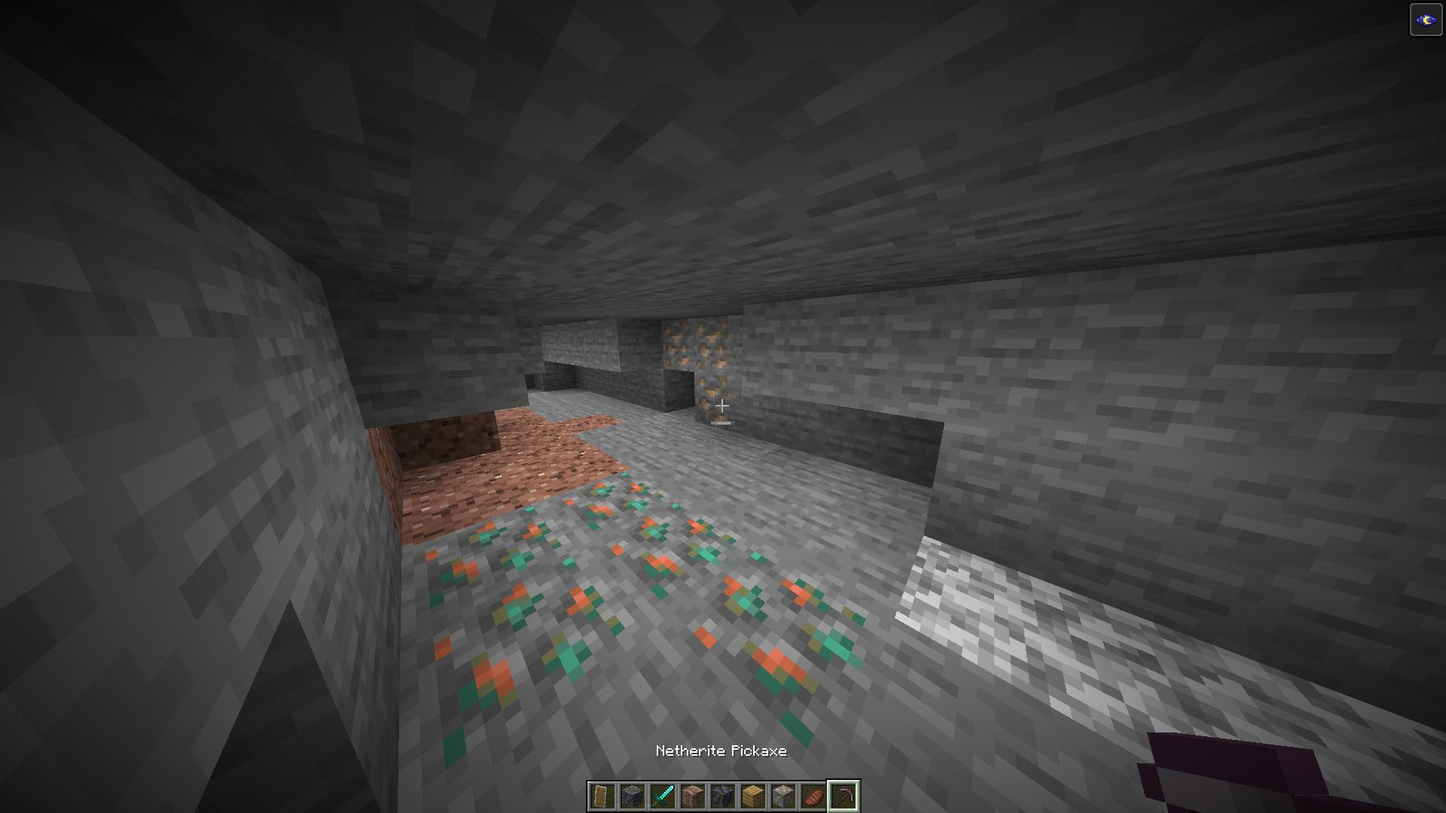iron ore: (694, 374, 732, 431), (692, 317, 729, 373), (661, 318, 693, 370)
